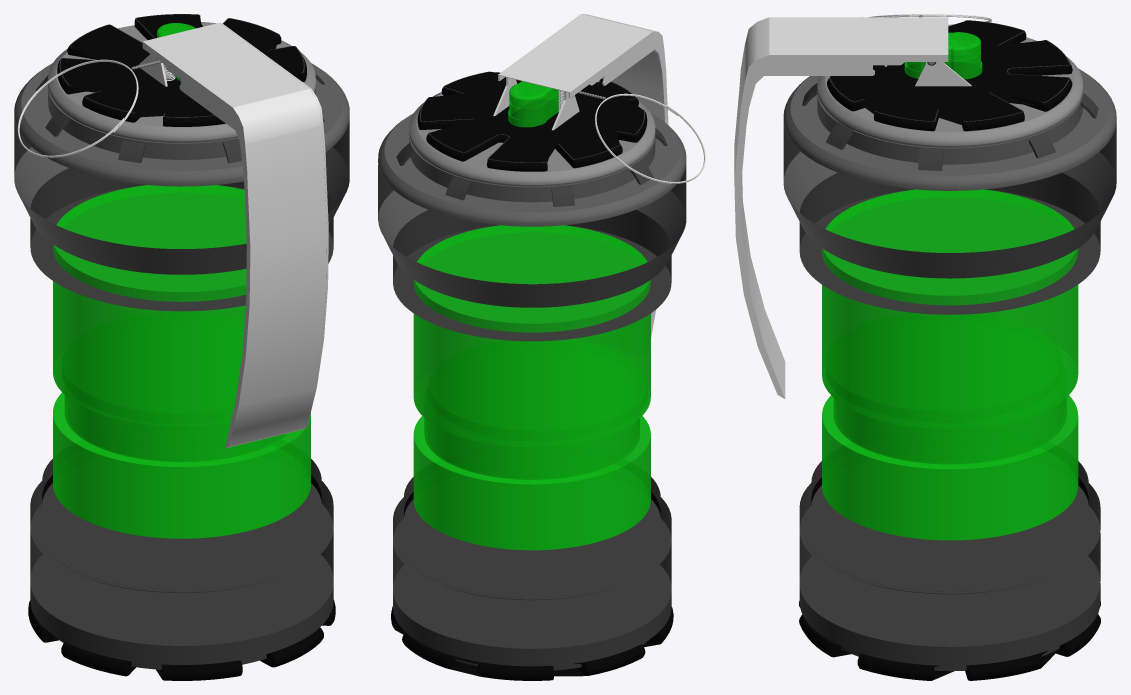
File: uploads_files_2631205_Atom+Bomb.fbx
The picture shows the model from 3 angles, left to right: view 1: azimuth 30°, elevation 25°; view 2: azimuth 150°, elevation 25°; view 3: azimuth 270°, elevation 25°; orthographic projection. The views are drawn at different scales.
Parts seen in each view (by area): view 1: Cylinder.001; view 2: Cylinder.001; view 3: Cylinder.001.
Boxes of the visible parts, bbox=[...] form: Cylinder.001: bbox=[14, 14, 349, 680]; Cylinder.001: bbox=[378, 14, 705, 680]; Cylinder.001: bbox=[734, 14, 1116, 680].
Bounding box in the file's own units: 80.3 × 145 × 85.89.
